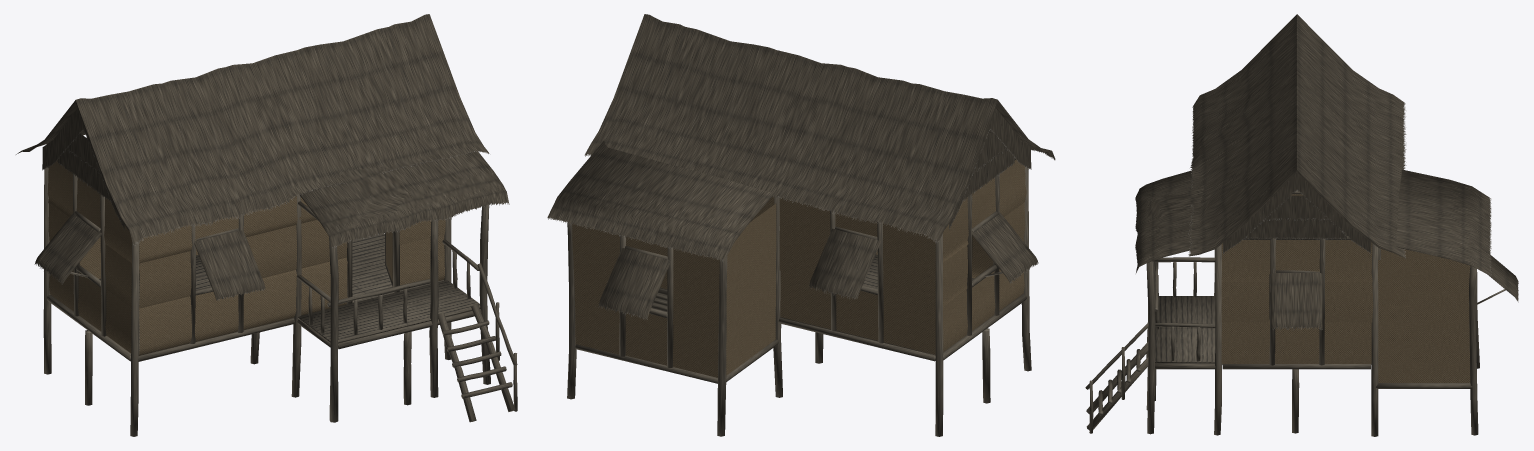
Rendered from casa_paja.fbx.
The picture shows the model from 3 angles, left to right: view 1: azimuth 30°, elevation 25°; view 2: azimuth 150°, elevation 25°; view 3: azimuth 270°, elevation 25°; orthographic projection. The views are drawn at different scales.
Visible parts, largest first — view 1: atap_house; view 2: atap_house; view 3: atap_house.
Boxes of the visible parts, x1,y1,x2,y2 form: atap_house: [16, 14, 517, 436]; atap_house: [547, 14, 1055, 436]; atap_house: [1085, 14, 1518, 436].
Bounding box in the file's own units: 8.05 × 5.93 × 8.4.
Materials: 1 (1 with a texture image).
